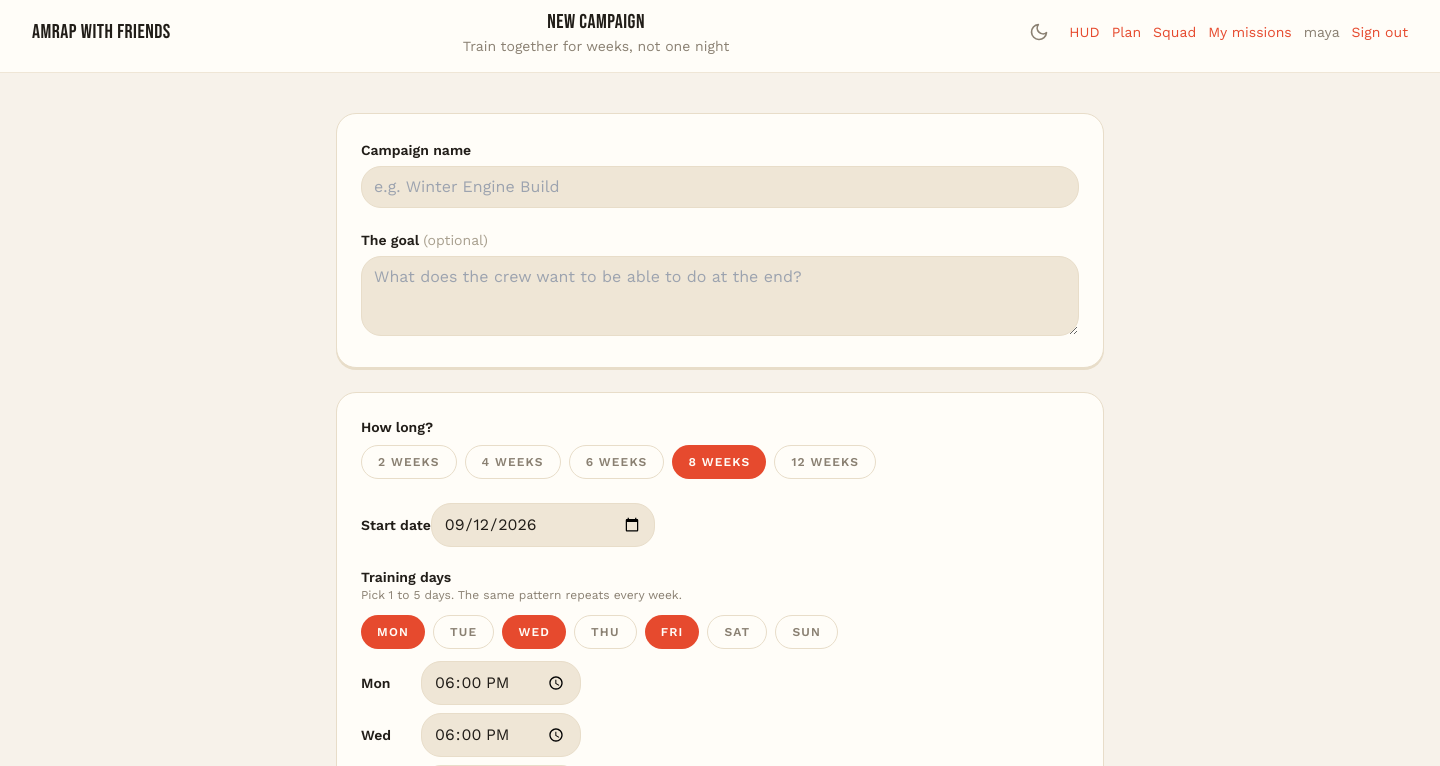
it: CreateCampaignPage › re-previews when the campaign length changes
The width and height of the screenshot is (1440, 766).
Step 1. Click the button "4 weeks" → {"x": 513, "y": 462}, box [465,445,561,479]
(page scrolled)
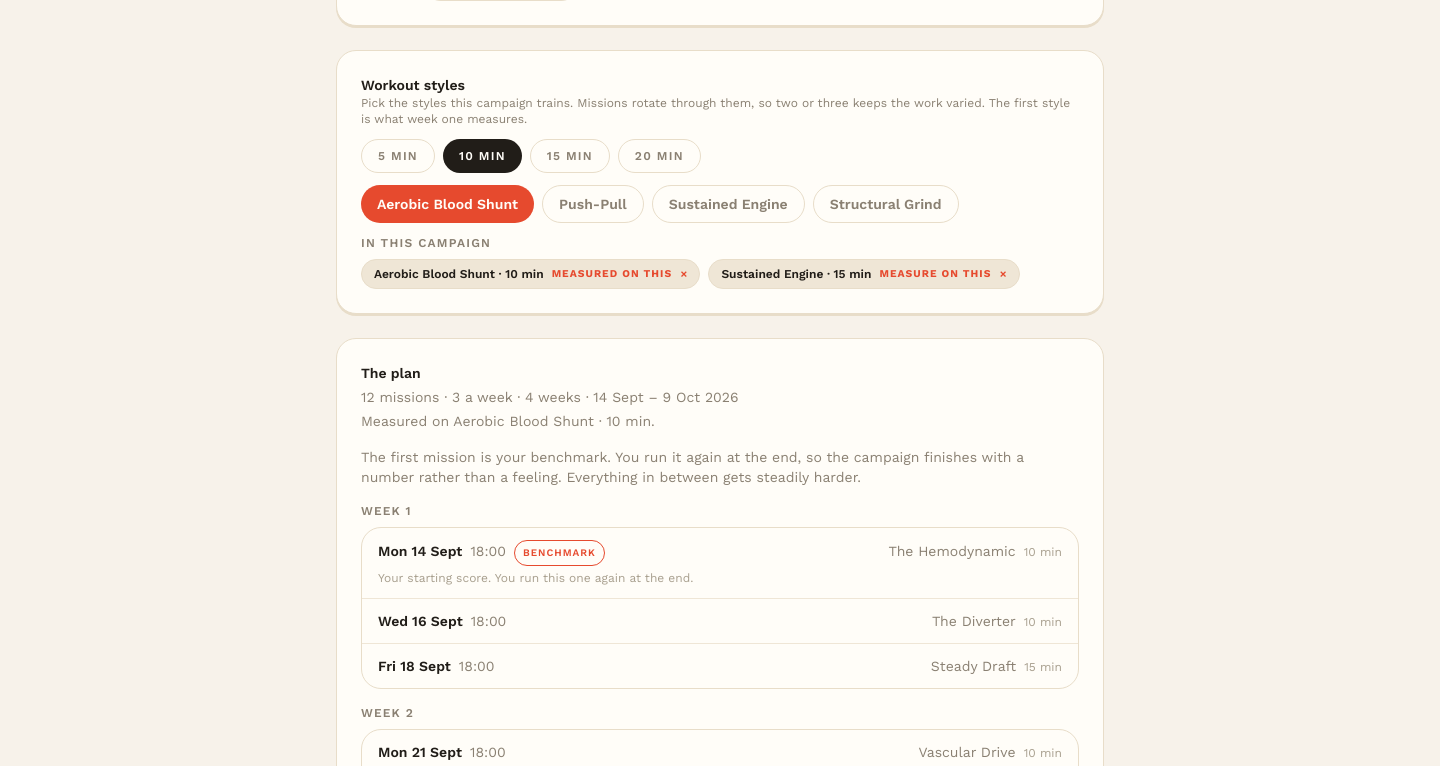
Result: the text "12 missions · 3 a week · 4 weeks · 14 Sept – 9 Oct 2026" is shown at [361,389,738,405]
